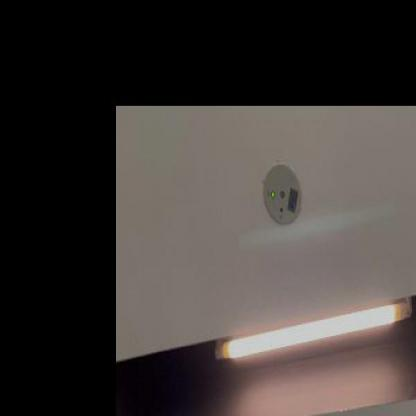light_on: (216, 286, 416, 379)
